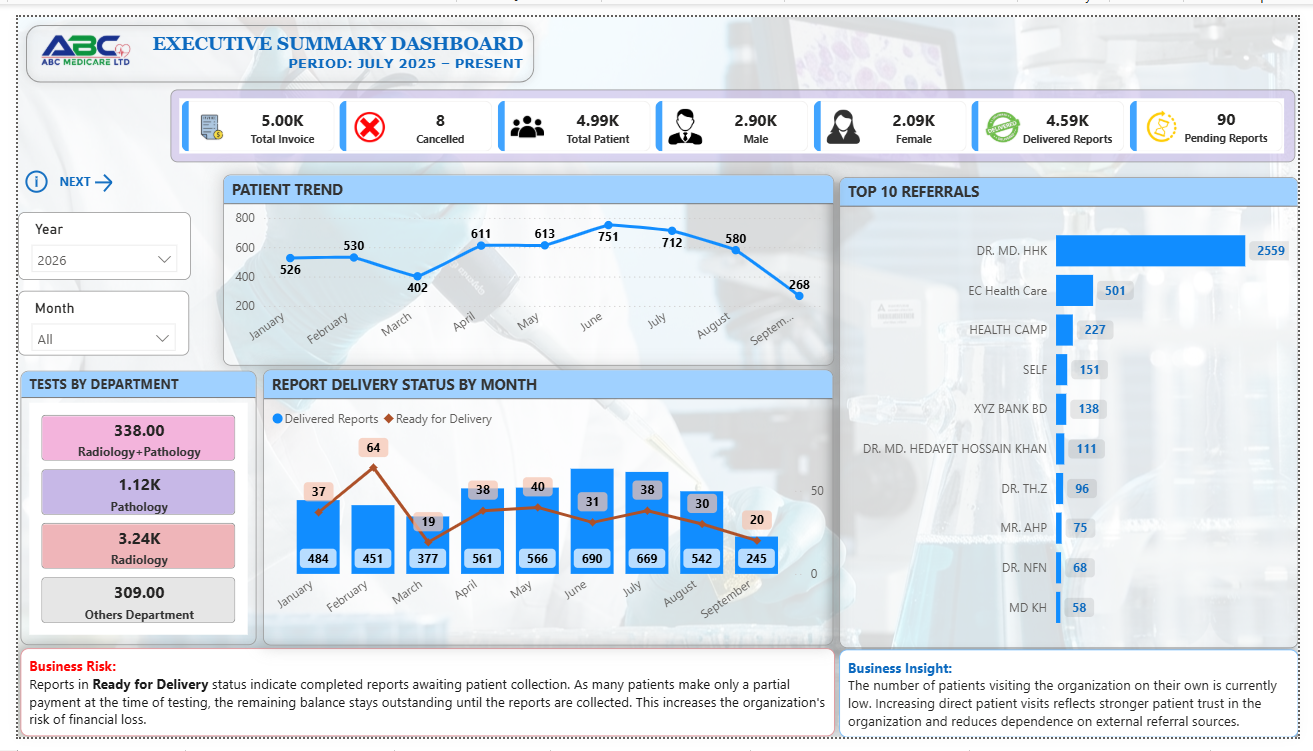

The page's visual inventory and layout, read from the dashboard file:
{"tool":"powerbi","page":{"name":"📊  Executive Summary","canvas":[1280,720],"ordinal":1},"visuals":[{"type":"shape","box":[0,0,524.1,73.5],"z":0},{"type":"image","box":[20,0,95,63],"z":1000},{"type":"textbox","box":[124.2,10.9,386.3,51.7],"z":2000},{"type":"cardVisual","fields":{"Data":["All Measure.Total_Invoice","All Measure.Cancelled Invoice","All Measure.Total_Patient","All Measure.Male_Patient","All Measure.Female_Patient","All Measure.Delivered Reports","All Measure.Pending Reprot"]},"box":[153,73,1125,73],"z":3000},{"type":"slicer","fields":{"Values":["Calender_Table.Date.Variation.Date Hierarchy.Month"]},"box":[0,274,171,65],"z":4000},{"type":"slicer","fields":{"Values":["Calender_Table.Date.Variation.Date Hierarchy.Year"]},"box":[0,195,173,68],"z":5000},{"type":"clusteredBarChart","title":"TOP 10 REFERRALS","fields":{"Category":["MASTER SHEET.REFERRED BY"],"Y":["All Measure.Total_Patient"]},"box":[821,160,459,471],"z":6000},{"type":"actionButton","box":[3,146,32,37],"z":7000},{"type":"textbox","box":[2,631,814,88],"z":8000},{"type":"actionButton","box":[37,153,61,27],"z":9000},{"type":"lineChart","title":"PATIENT TREND","fields":{"Category":["Calender_Table.Date.Variation.Date Hierarchy.Year","Calender_Table.Date.Variation.Date Hierarchy.Quarter","Calender_Table.Date.Variation.Date Hierarchy.Month","Calender_Table.Date.Variation.Date Hierarchy.Day"],"Y":["All Measure.Total_Patient"]},"box":[205,158,611,191],"z":10000},{"type":"lineStackedColumnComboChart","title":"REPORT DELIVERY STATUS BY MONTH","fields":{"Category":["Calender_Table.Date.Variation.Date Hierarchy.Year","Calender_Table.Date.Variation.Date Hierarchy.Quarter","Calender_Table.Date.Variation.Date Hierarchy.Month","Calender_Table.Date.Variation.Date Hierarchy.Day"],"Y":["All Measure.Delivered Reports"],"Y2":["All Measure.Received Reports"]},"box":[245,352,570,276],"z":11000},{"type":"textbox","box":[821,632,459,88],"z":12000},{"type":"cardVisual","title":"TESTS BY DEPARTMENT","fields":{"Data":["All Measure.Radiology+Pathology","All Measure.Only_Pathology","All Measure.Only_Radiology","All Measure.Others_Department"]},"box":[3,354,236,274],"z":13000}]}

Visuals, with their boxes in screenshot pixels (x1, y1, x2, y2), scaled from the page's 1280x720 canvas onto the 1313x751 screenshot:
shape: Rect(0, 0, 538, 77)
image: Rect(21, 0, 118, 66)
textbox: Rect(127, 11, 524, 65)
cardVisual - All Measure.Total_Invoice x All Measure.Cancelled Invoice: Rect(157, 76, 1311, 152)
slicer - Calender_Table.Date.Variation.Date Hierarchy.Month: Rect(0, 286, 175, 354)
slicer - Calender_Table.Date.Variation.Date Hierarchy.Year: Rect(0, 203, 177, 274)
"TOP 10 REFERRALS" clusteredBarChart: Rect(842, 167, 1312, 658)
actionButton: Rect(3, 152, 36, 191)
textbox: Rect(2, 658, 837, 750)
actionButton: Rect(38, 160, 101, 188)
"PATIENT TREND" lineChart: Rect(210, 165, 837, 364)
"REPORT DELIVERY STATUS BY MONTH" lineStackedColumnComboChart: Rect(251, 367, 836, 655)
textbox: Rect(842, 659, 1312, 750)
"TESTS BY DEPARTMENT" cardVisual: Rect(3, 369, 245, 655)
